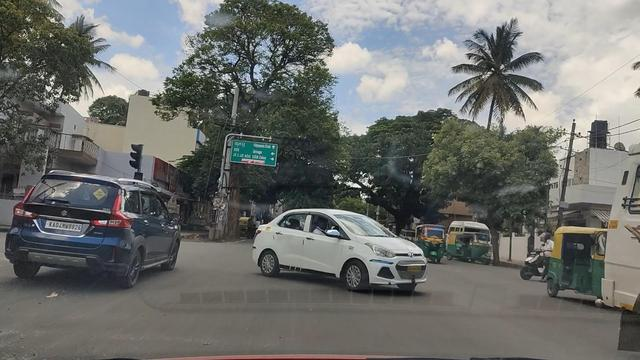LMV: (9, 173, 178, 287), (260, 196, 430, 303)
